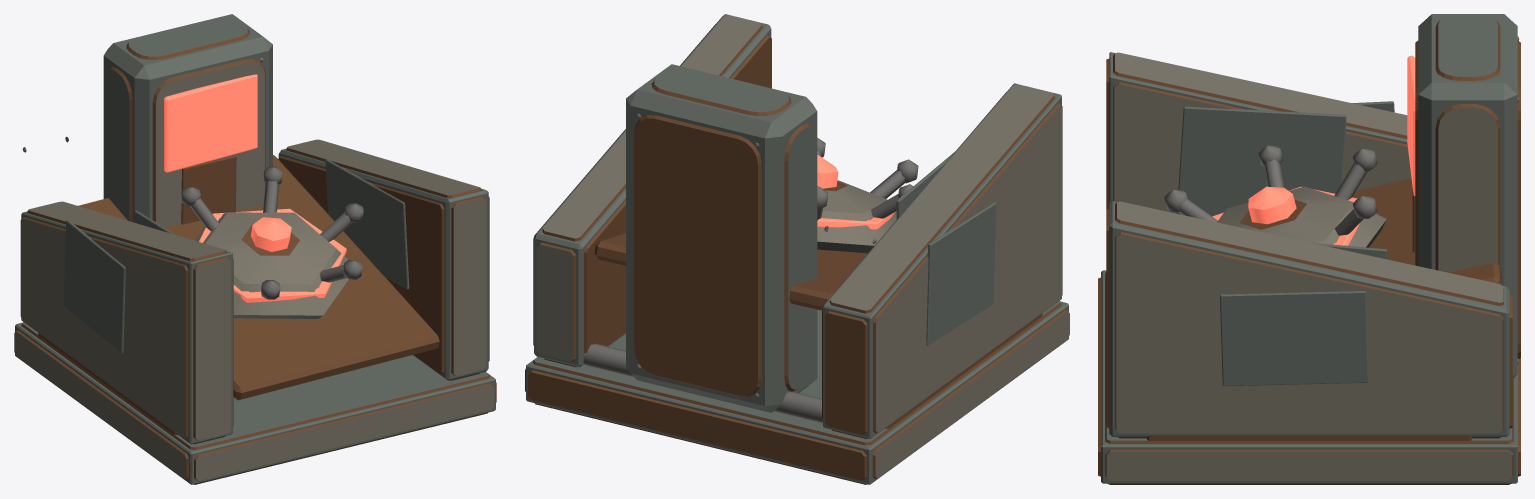
Rendered from R4X_ExplosiveTrapDeployer.fbx.
The picture shows the model from 3 angles, left to right: view 1: azimuth 30°, elevation 25°; view 2: azimuth 150°, elevation 25°; view 3: azimuth 270°, elevation 25°; orthographic projection. The views are drawn at different scales.
Visible parts, largest first — view 1: R4X_ExplosiveTrapDeployer_Body, R4X_ExplosiveTrapDeployer_Payload; view 2: R4X_ExplosiveTrapDeployer_Body, R4X_ExplosiveTrapDeployer_Payload; view 3: R4X_ExplosiveTrapDeployer_Body, R4X_ExplosiveTrapDeployer_Payload.
Part boxes in pixels (<box>): R4X_ExplosiveTrapDeployer_Body: <box>14,14,496,484</box>; R4X_ExplosiveTrapDeployer_Payload: <box>181,166,363,318</box>; R4X_ExplosiveTrapDeployer_Body: <box>525,14,1069,484</box>; R4X_ExplosiveTrapDeployer_Payload: <box>817,138,918,253</box>; R4X_ExplosiveTrapDeployer_Body: <box>1098,14,1520,484</box>; R4X_ExplosiveTrapDeployer_Payload: <box>1164,145,1386,247</box>.
Bounding box in the file's own units: 0.52 × 0.48 × 0.52.
